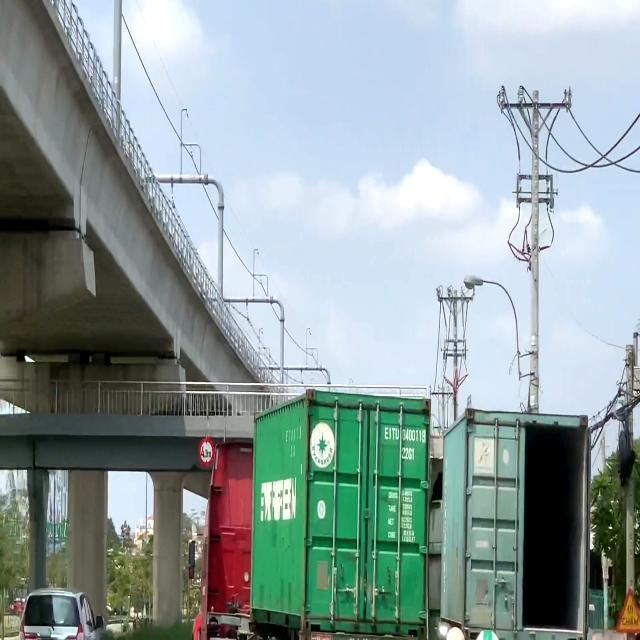Han che chieu cao: (198, 437, 214, 467)
